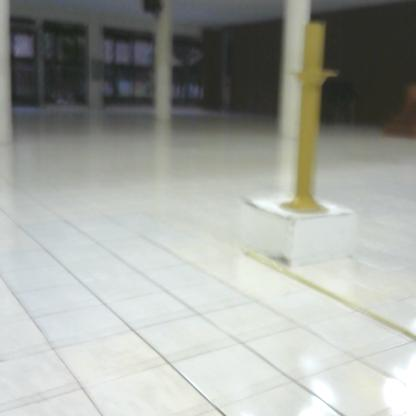pole: (278, 19, 342, 217)
